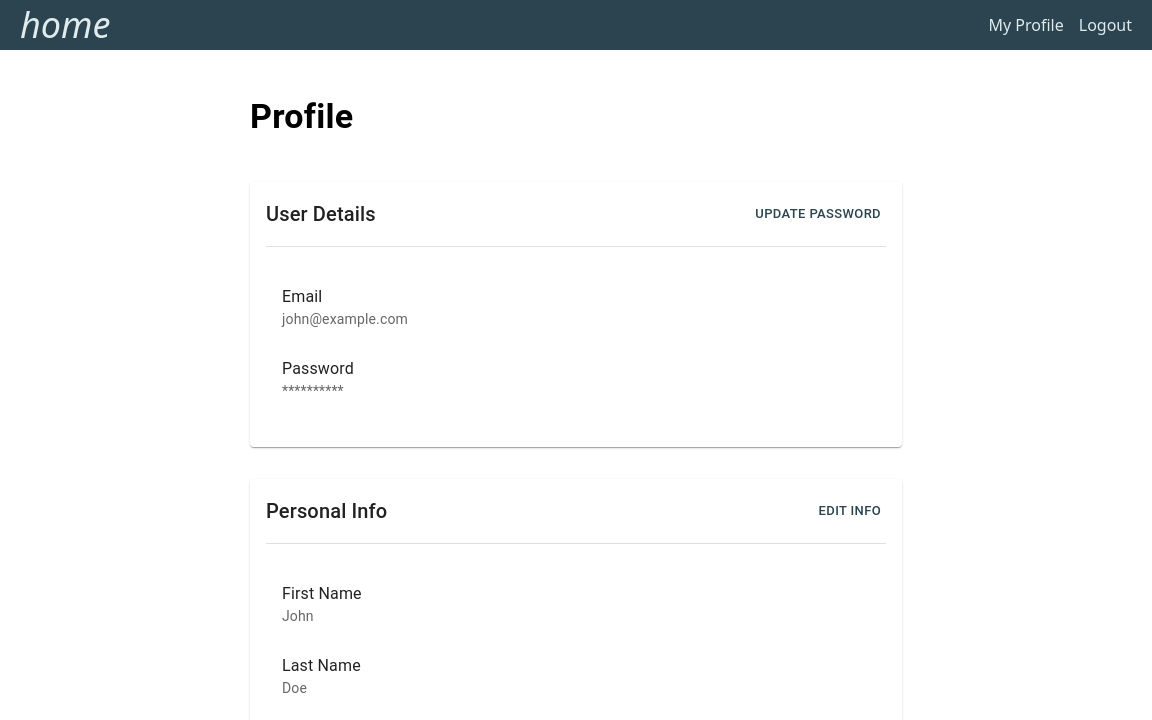
Listener Profile Page › opens password dialog when clicking Update Password
Check: the text "john@example.com" is shown, box [282,311,408,327]
# Open password edit
Click the button "Update Password" at coordinates (818, 214), box [750,198,886,230]
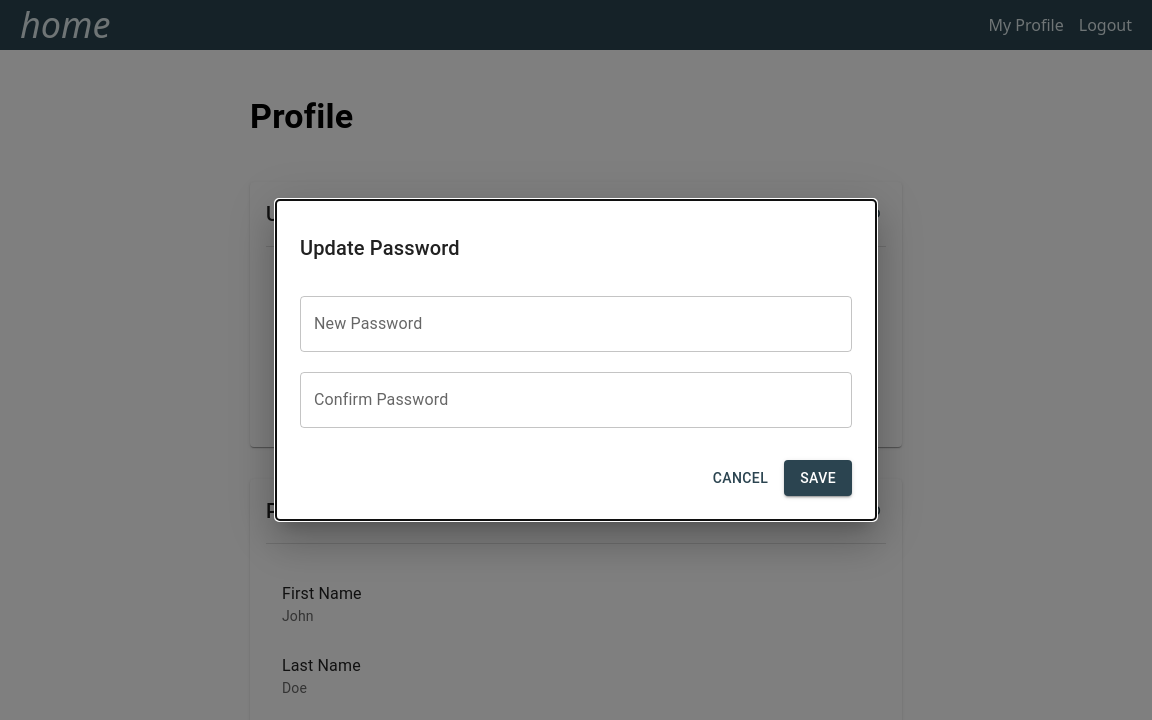
Check: the password field labelled "New Password" is shown, box [300,296,852,352]
Check: the password field labelled "Confirm Password" is shown, box [300,372,852,428]
